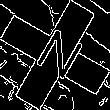N_SW: (25, 23, 85, 87)
